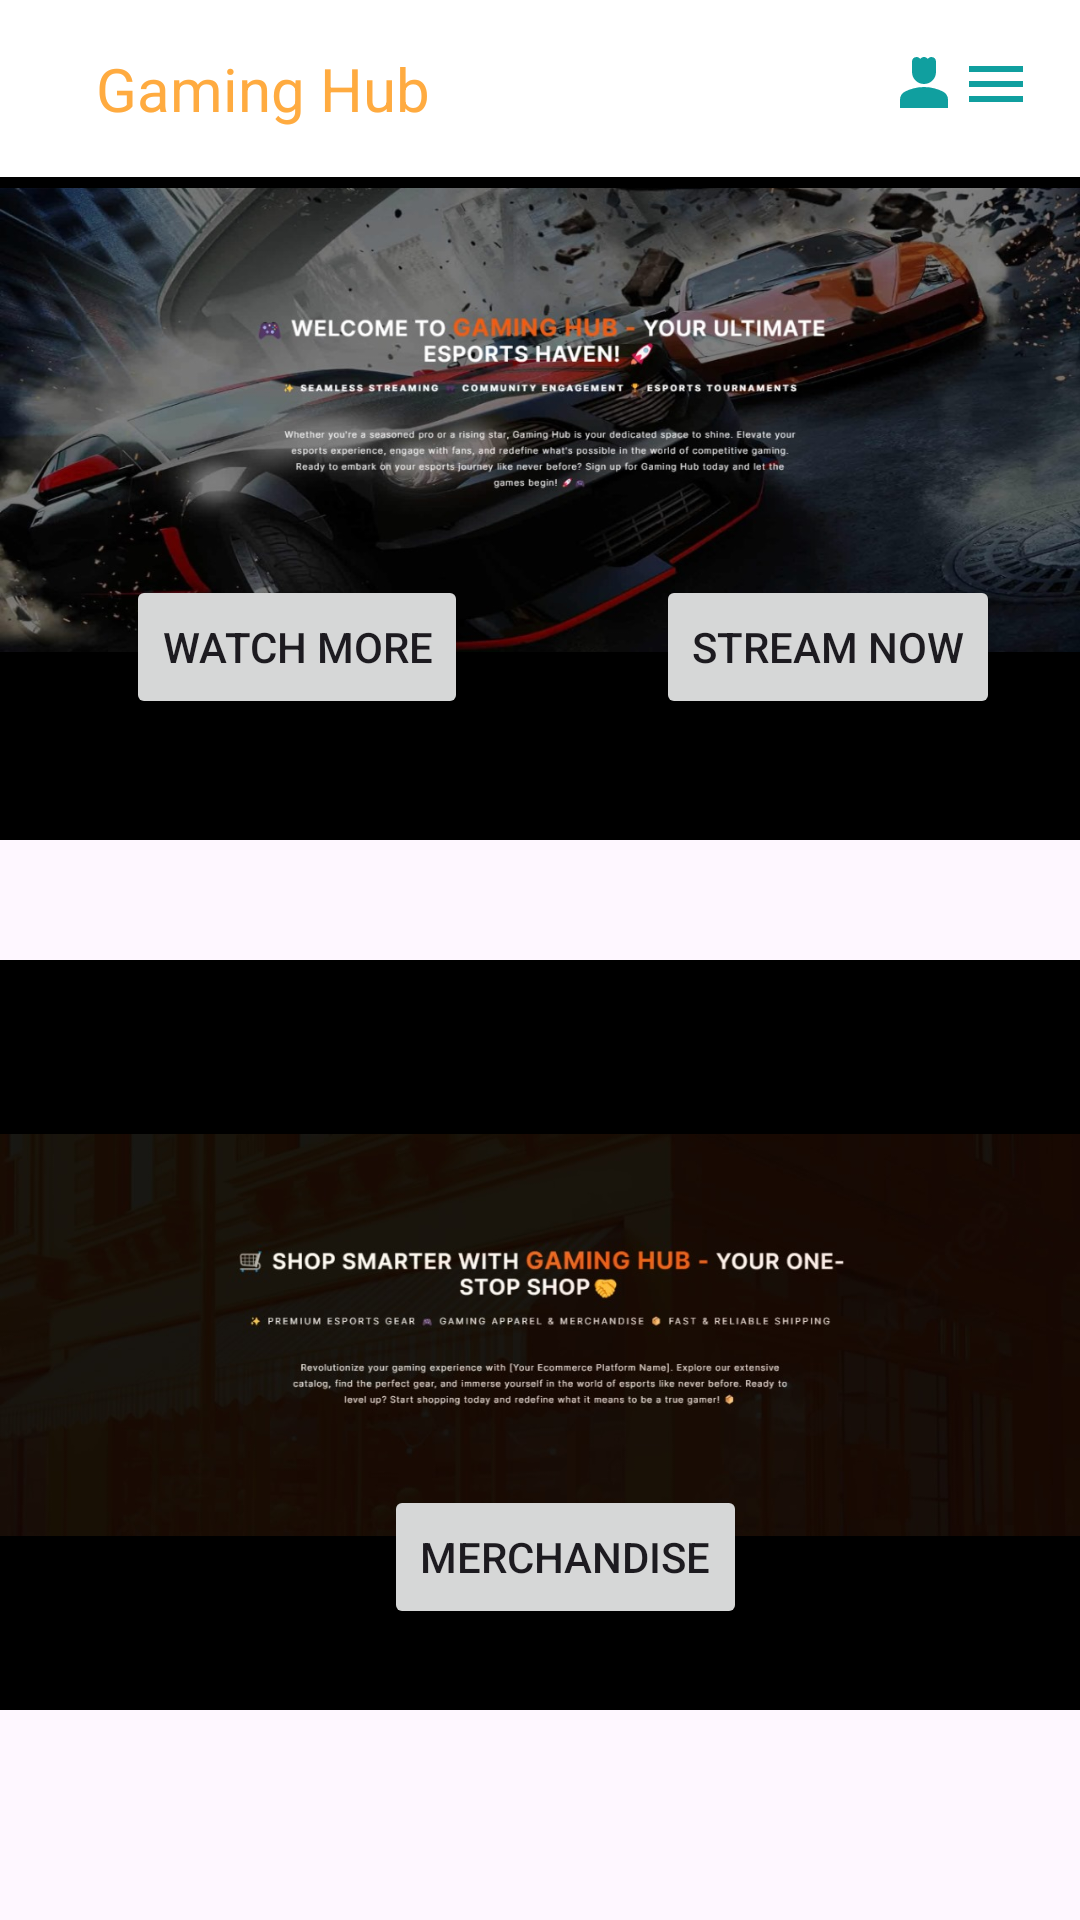

Icons on this 1080px x 1920px Android screen, each with its box as (x1, y1, x2, y2):
menu: (969, 66, 1023, 102)
person: (900, 57, 948, 108)
